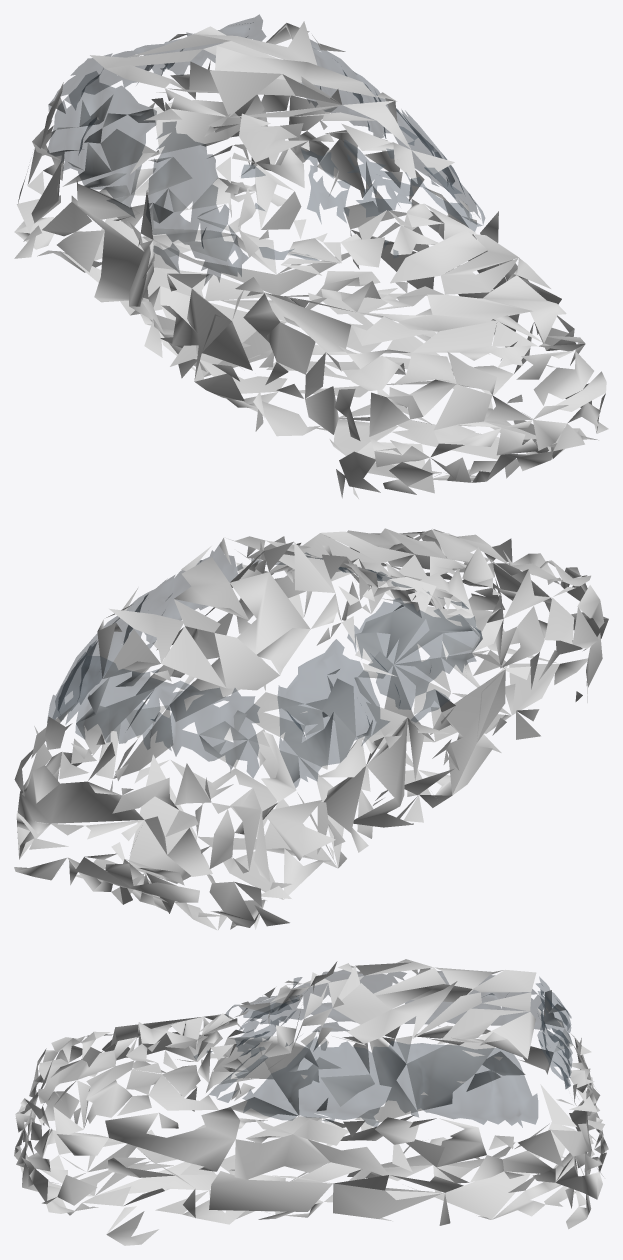
The model's file is maruti_red_lod.glb.
3 renders of one model, top to bottom at view 1: azimuth 30°, elevation 25°; view 2: azimuth 150°, elevation 25°; view 3: azimuth 270°, elevation 25°, orthographic. The views are drawn at different scales.
Parts seen in each view (by area): view 1: maruti_red, glass; view 2: maruti_red, glass; view 3: maruti_red, glass.
Part boxes in pixels (x1,y1,x2,y2): maruti_red: (14, 21, 608, 498); glass: (47, 14, 484, 285); maruti_red: (14, 528, 608, 930); glass: (47, 542, 482, 787); maruti_red: (14, 959, 608, 1245); glass: (194, 970, 572, 1127).
Bounding box in the file's own units: 1.55 × 1.47 × 3.31.
